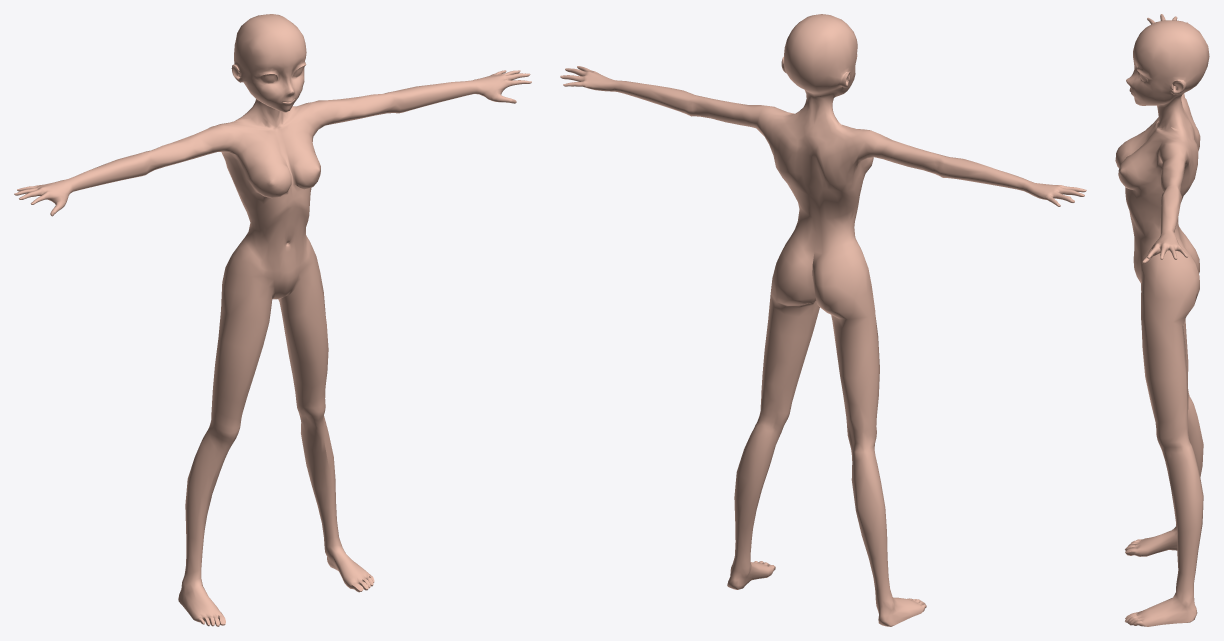
Rendered from fallback-female.glb.
3 renders of one model, left to right at view 1: azimuth 30°, elevation 25°; view 2: azimuth 150°, elevation 25°; view 3: azimuth 270°, elevation 25°, orthographic. The views are drawn at different scales.
Visible parts, largest first — view 1: Body; view 2: Body; view 3: Body.
Part boxes in pixels (x1,y1,x2,y2): Body: (14,14,531,626); Body: (560,14,1086,626); Body: (1115,14,1209,626).
Bounding box in the file's own units: 1.42 × 1.53 × 0.2305.
